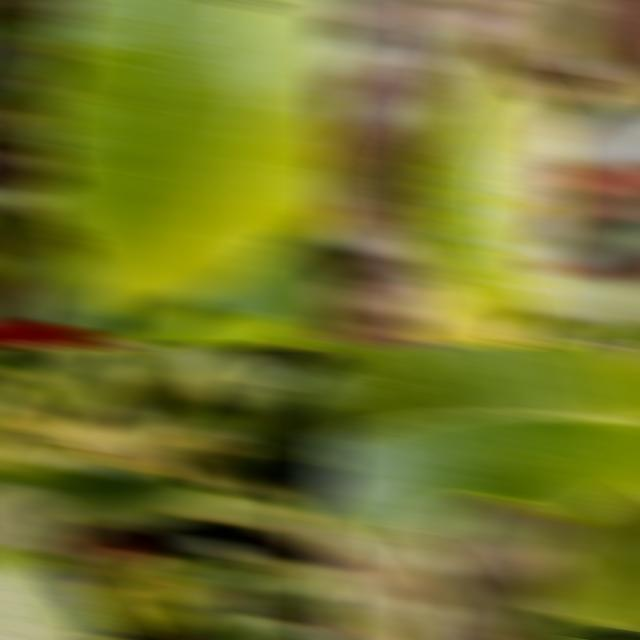Leaf: (113, 0, 344, 313), (34, 0, 264, 287), (320, 344, 640, 542), (393, 26, 568, 330), (530, 490, 640, 631), (43, 469, 230, 530), (86, 549, 181, 639), (25, 351, 131, 423), (405, 277, 515, 346), (108, 308, 303, 346), (180, 354, 263, 435), (0, 480, 73, 565), (265, 362, 344, 425), (290, 476, 344, 558), (117, 344, 184, 389), (234, 616, 321, 640)
